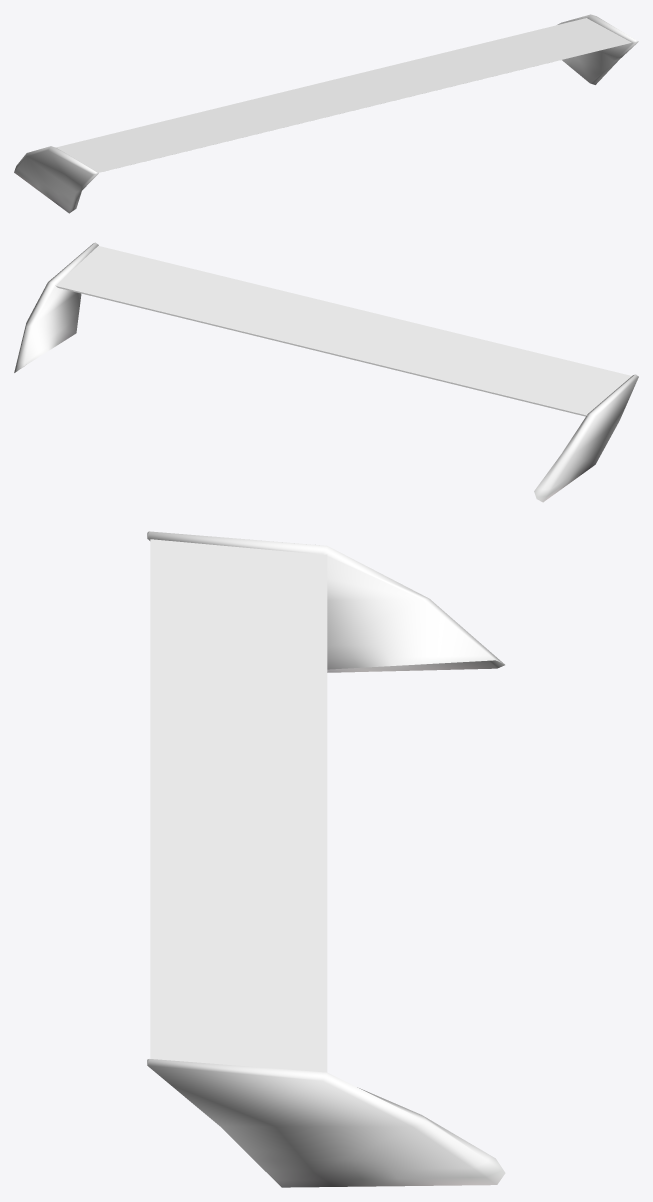
Rendered from spl_a_st_r.glb.
3 renders of one model, top to bottom at view 1: azimuth 30°, elevation 25°; view 2: azimuth 150°, elevation 25°; view 3: azimuth 270°, elevation 25°, orthographic. The views are drawn at different scales.
Visible parts, largest first — view 1: spl_a_st_r; view 2: spl_a_st_r; view 3: spl_a_st_r.
Boxes of the visible parts, bbox=[...] form: spl_a_st_r: bbox=[14, 14, 638, 213]; spl_a_st_r: bbox=[14, 242, 638, 502]; spl_a_st_r: bbox=[147, 531, 505, 1187].
Bounding box in the file's own units: 1.45 × 0.1709 × 0.4089.
Materials: 1 (1 with a texture image).
